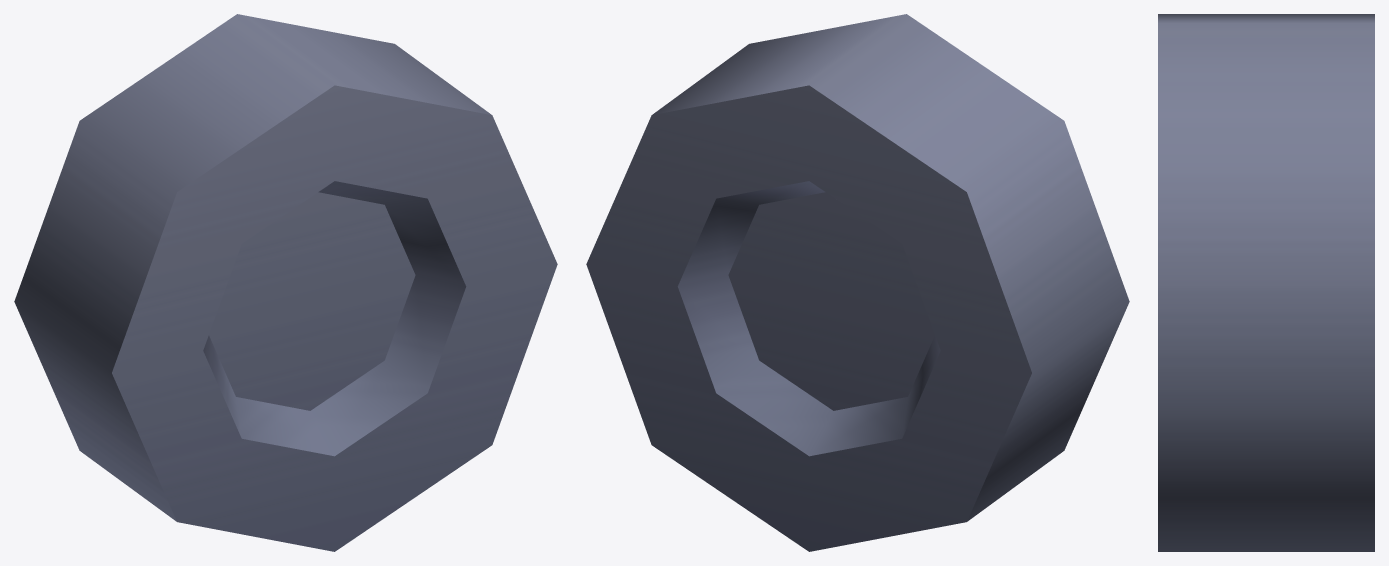
File: item-coin-silver.obj
3 views of the same model, side by side, from view 1: azimuth 30°, elevation 25°; view 2: azimuth 150°, elevation 25°; view 3: azimuth 270°, elevation 25° (orthographic). The views are drawn at different scales.
Visible parts, largest first — view 1: item-coin-silver; view 2: item-coin-silver; view 3: item-coin-silver.
Boxes of the visible parts, x1,y1,x2,y2 form: item-coin-silver: (14, 14, 557, 551); item-coin-silver: (586, 14, 1129, 551); item-coin-silver: (1158, 14, 1374, 551).
Bounding box in the file's own units: 0.264 × 0.264 × 0.1.
1 material, 1 textured.
